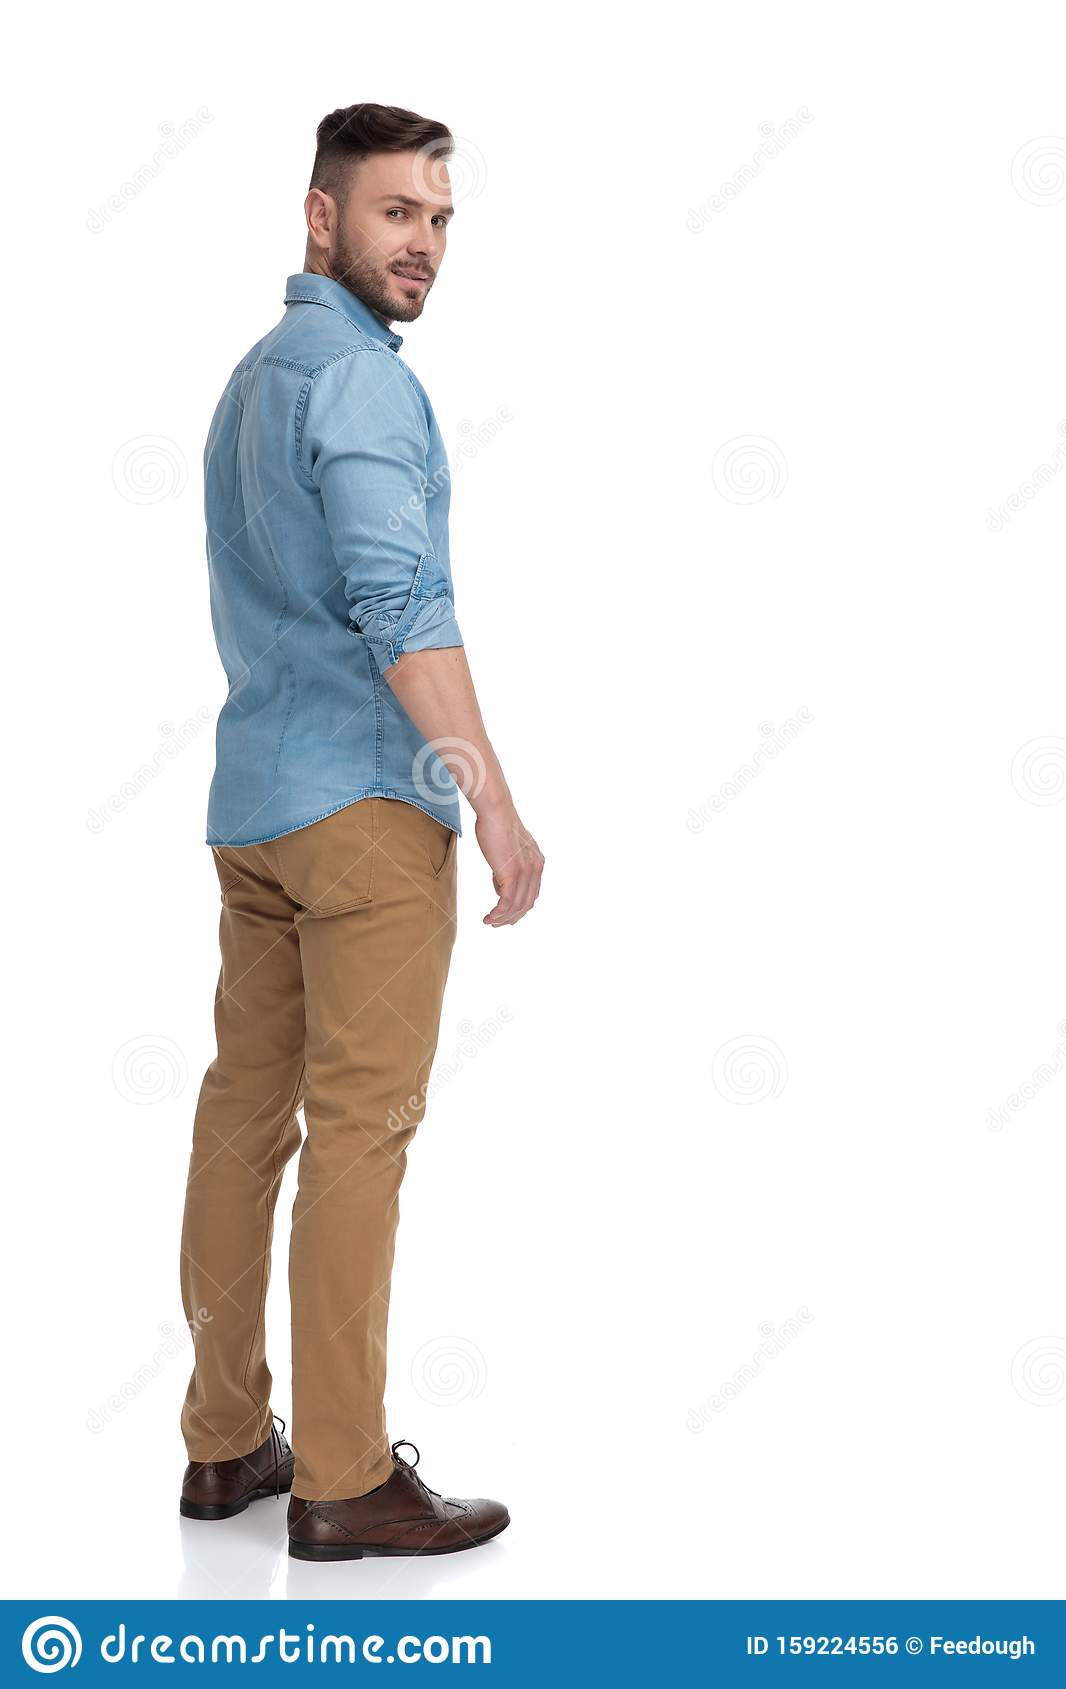person: (178, 107, 544, 1560)
